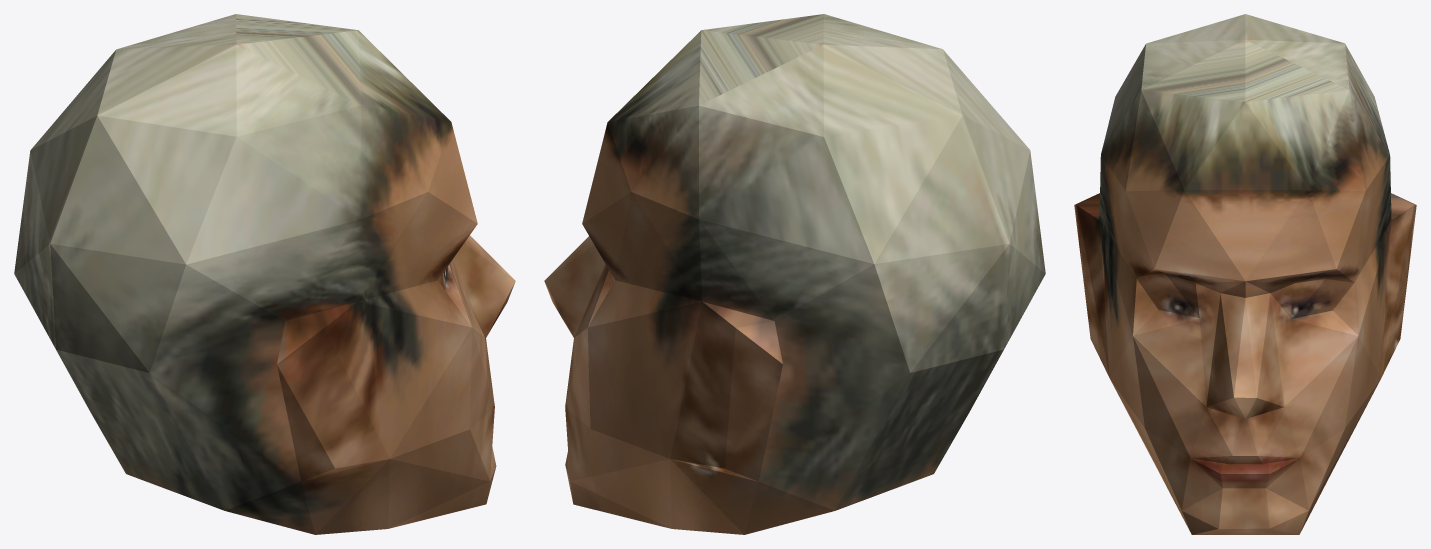
File: THOMAS.glb
3 renders of one model, left to right at view 1: azimuth 30°, elevation 25°; view 2: azimuth 150°, elevation 25°; view 3: azimuth 270°, elevation 25°, orthographic. The views are drawn at different scales.
Parts seen in each view (by area): view 1: zm_Morph; view 2: zm_Morph; view 3: zm_Morph.
Boxes of the visible parts, x1,y1,x2,y2 form: zm_Morph: (14, 14, 515, 534); zm_Morph: (544, 14, 1045, 534); zm_Morph: (1074, 14, 1416, 534).
Bounding box in the file's own units: 0.2276 × 0.2319 × 0.1769.
Materials: 3 (3 with a texture image).
